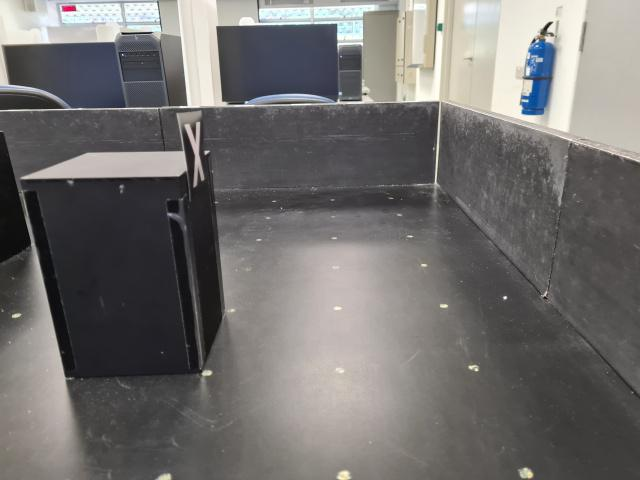x: (175, 110, 210, 202)
